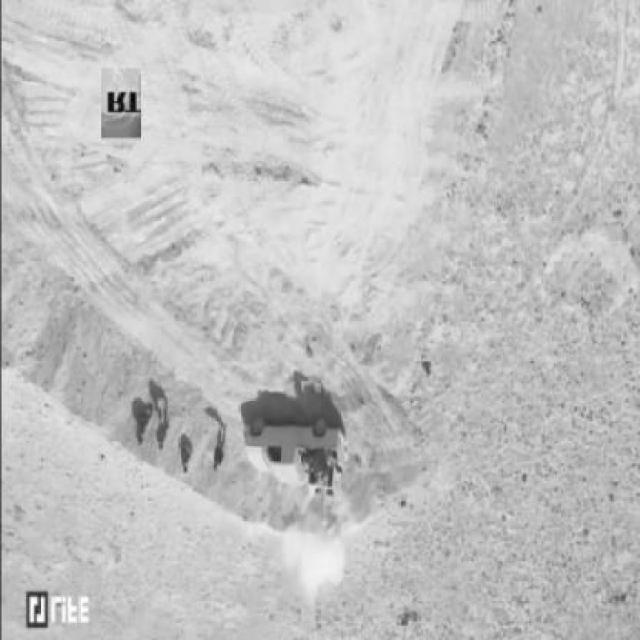Person: (154, 398, 173, 456), (211, 425, 228, 477), (133, 408, 152, 452), (179, 441, 194, 476)
Vehicle: (240, 422, 347, 489)
